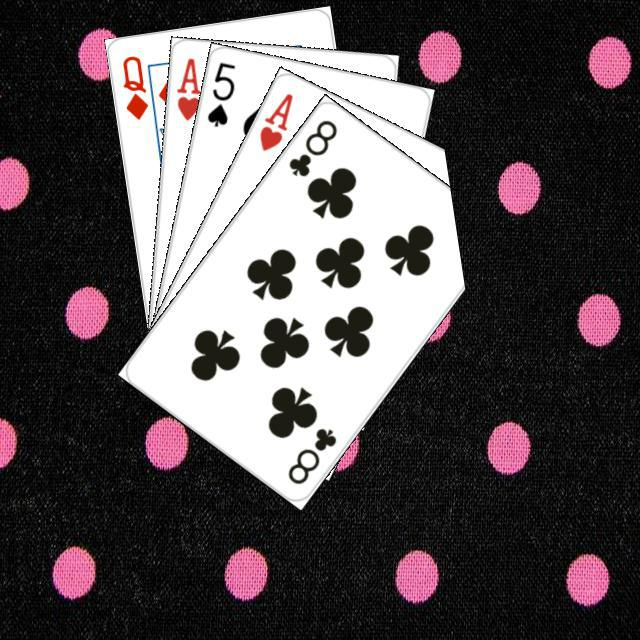5s: (202, 57, 237, 129)
8c: (282, 422, 339, 487), (283, 114, 339, 179)
Ah: (254, 88, 295, 153), (172, 52, 202, 123)
Qd: (117, 51, 150, 121)
